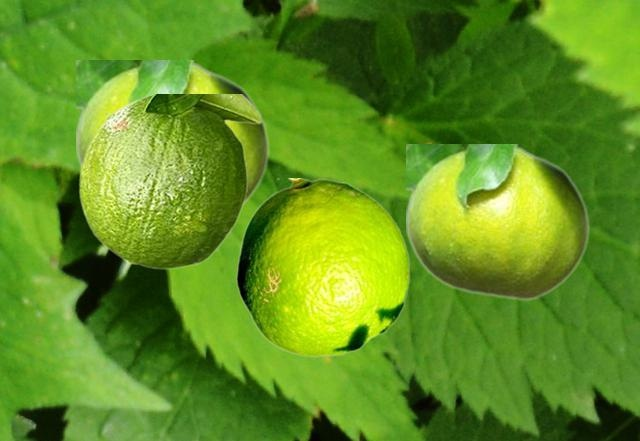dalandan: (78, 94, 261, 268), (236, 178, 409, 356), (406, 144, 589, 300), (76, 60, 269, 205)
